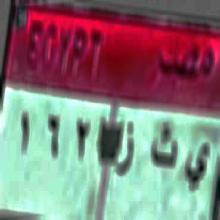1: (18, 108, 32, 170)
2: (74, 116, 90, 166)
6: (44, 114, 63, 167)
thaa: (149, 121, 178, 174)
yaa: (183, 138, 210, 196)
zay: (115, 120, 138, 183)
